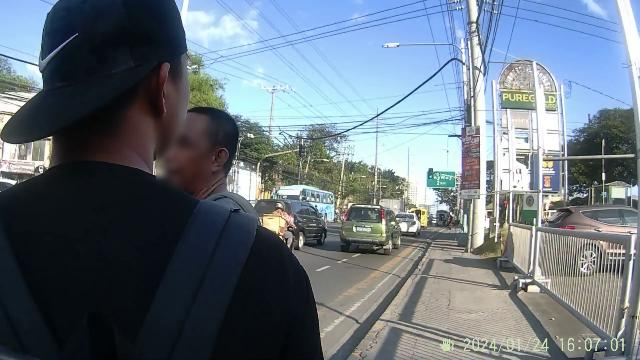car: (337, 197, 401, 256)
lamp_post: (378, 41, 470, 129)
